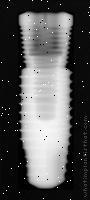3M ESPE: (18, 12, 74, 190)
